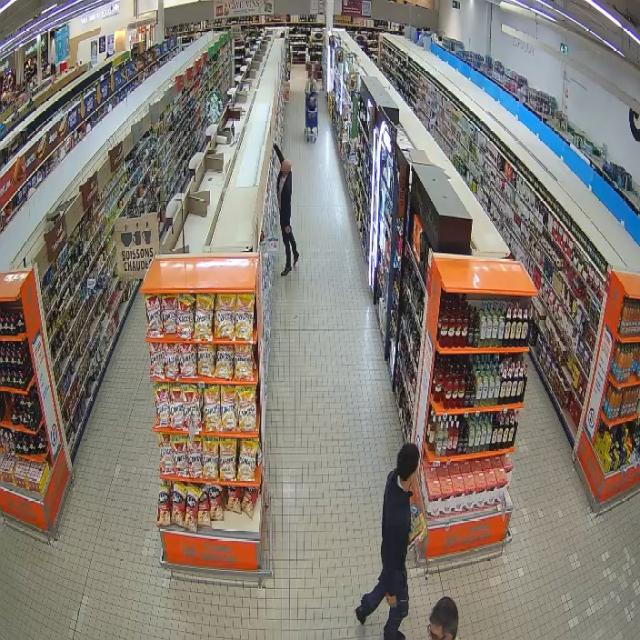article: (409, 513, 429, 550), (411, 505, 419, 516), (410, 514, 413, 529)
hands: (386, 594, 397, 607), (284, 226, 292, 233)
person: (356, 444, 419, 639), (274, 144, 299, 275), (429, 597, 458, 639)
